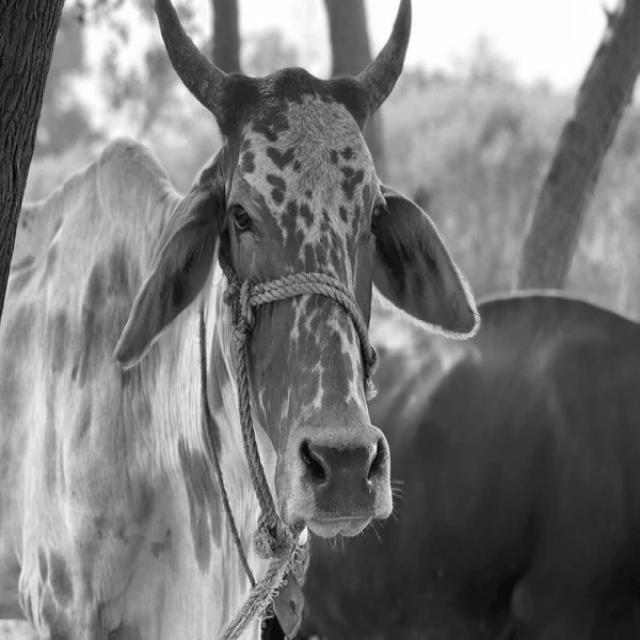Cow: (1, 0, 480, 639)
